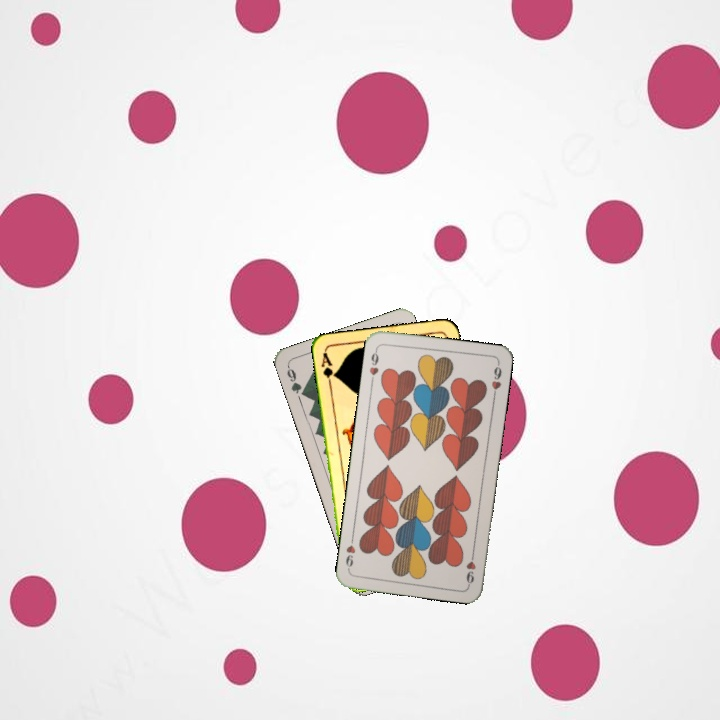G9: (283, 362, 309, 399)
GA: (317, 349, 338, 389)
H9: (365, 344, 381, 385), (462, 547, 478, 587)
